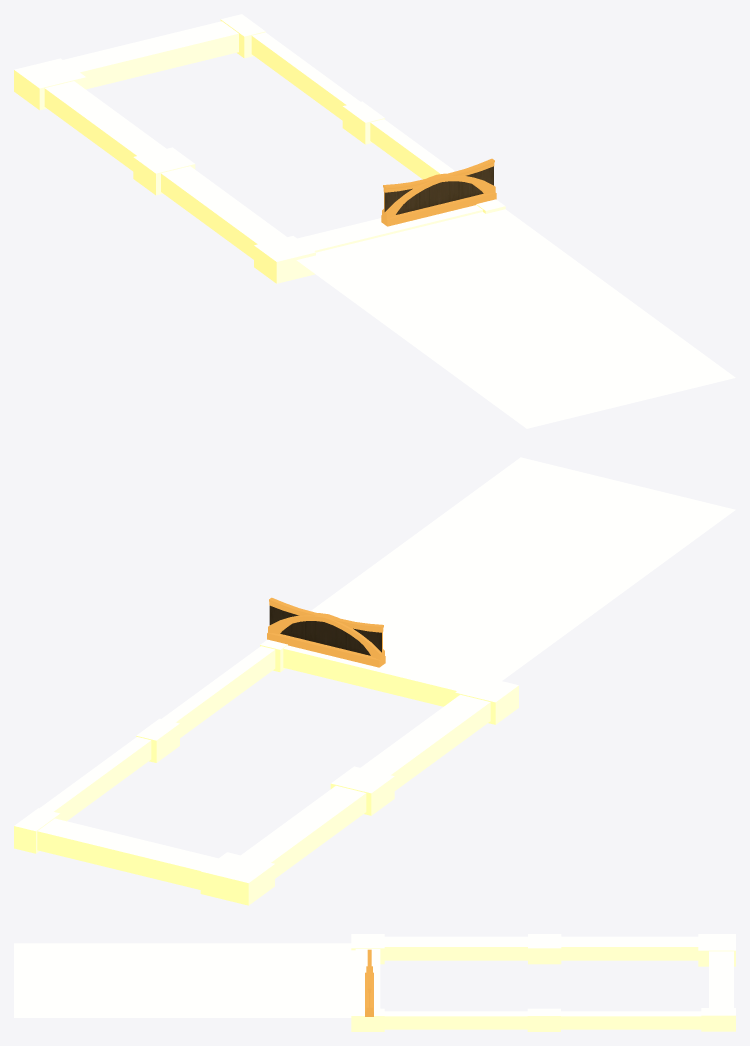
File: Homeworld_Interior_Xm_Room_O_Floor_01_Vo.fbx
3 renders of one model, top to bottom at view 1: azimuth 30°, elevation 25°; view 2: azimuth 150°, elevation 25°; view 3: azimuth 270°, elevation 25°, orthographic. The views are drawn at different scales.
Visible parts, largest first — view 1: Homeworld_Interior_Xm_Room_O_Floor_01_Vo; view 2: Homeworld_Interior_Xm_Room_O_Floor_01_Vo; view 3: Homeworld_Interior_Xm_Room_O_Floor_01_Vo.
Boxes of the visible parts, bbox=[...] form: Homeworld_Interior_Xm_Room_O_Floor_01_Vo: bbox=[14, 14, 735, 428]; Homeworld_Interior_Xm_Room_O_Floor_01_Vo: bbox=[14, 457, 735, 905]; Homeworld_Interior_Xm_Room_O_Floor_01_Vo: bbox=[14, 934, 735, 1031].
Size of the model in its own units: 5.48 by 1.36 by 20.42.
